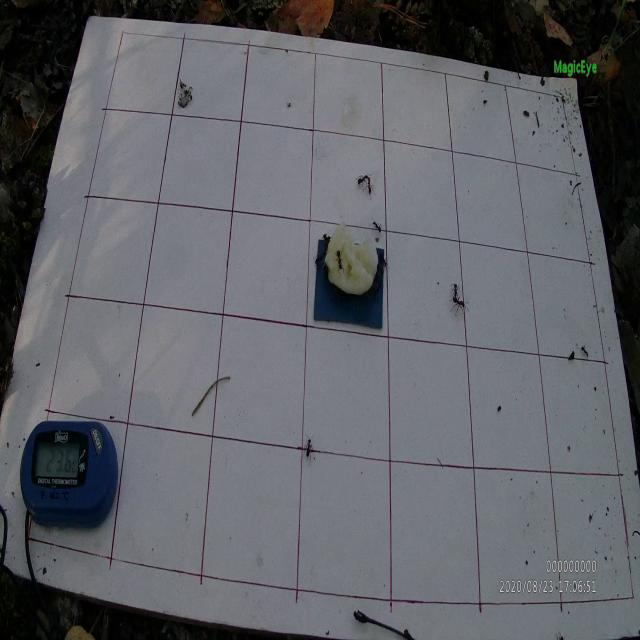Ant: (334, 242, 347, 278), (304, 431, 314, 463), (449, 299, 468, 315), (314, 248, 328, 266), (366, 177, 376, 199), (372, 218, 384, 236), (355, 172, 368, 188), (450, 281, 460, 300), (579, 342, 589, 359)
